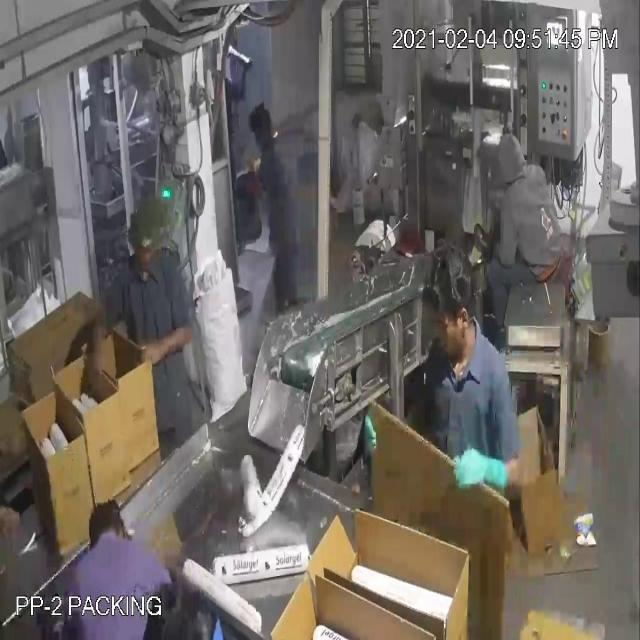No_Gloves: (12, 61, 475, 520)
